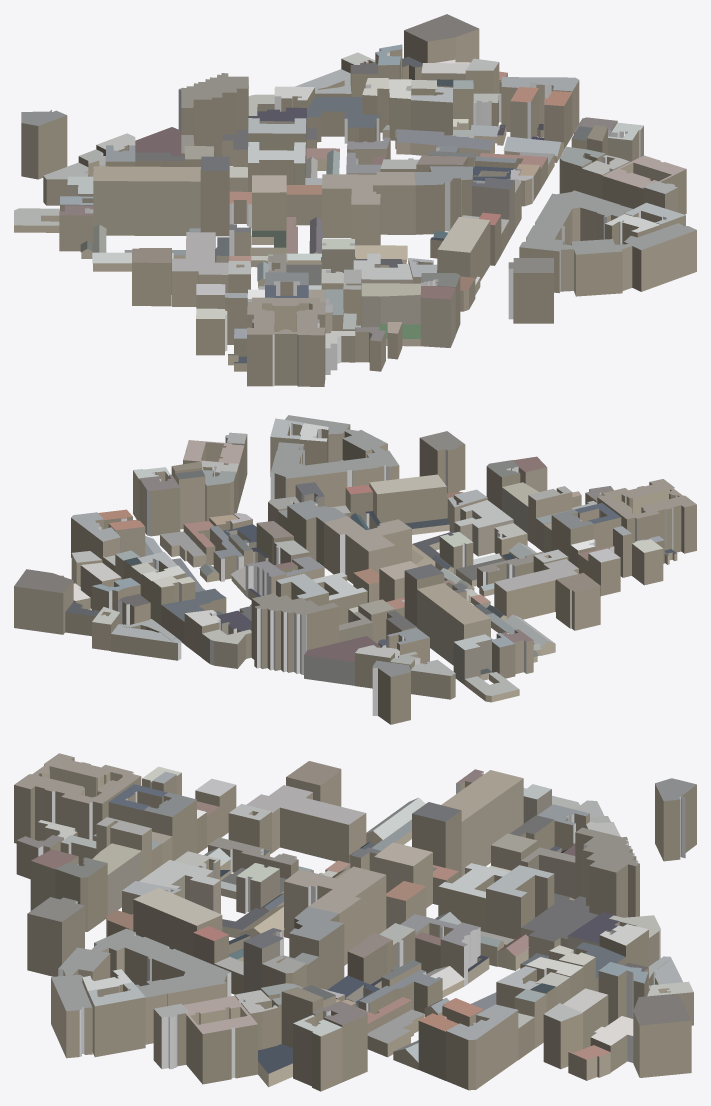
3 renders of one model, top to bottom at view 1: azimuth 30°, elevation 25°; view 2: azimuth 150°, elevation 25°; view 3: azimuth 270°, elevation 25°, orthographic. The views are drawn at different scales.
Visible parts, largest first — view 1: tuile; view 2: tuile; view 3: tuile.
Boxes of the visible parts, bbox=[...] form: tuile: bbox=[14, 14, 696, 386]; tuile: bbox=[14, 415, 696, 724]; tuile: bbox=[14, 753, 696, 1091].
Bounding box in the file's own units: 271 × 33.21 × 268.
